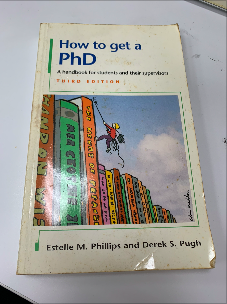Nonfood: (21, 22, 216, 279)
